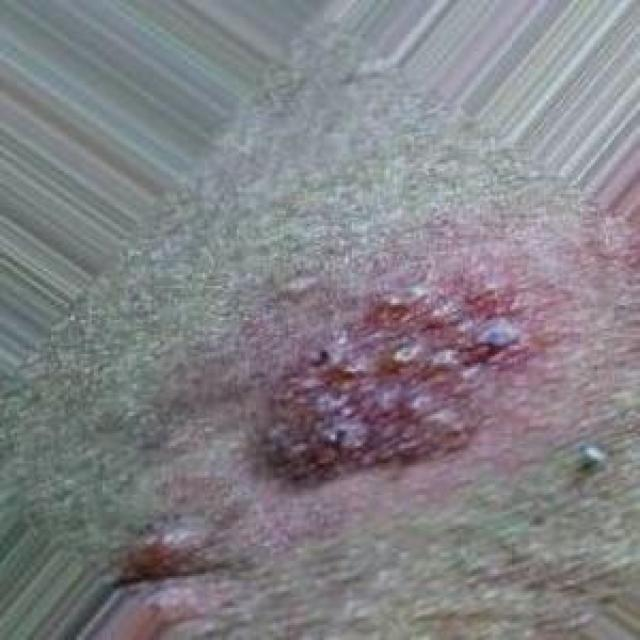Shingles: (244, 266, 536, 492)
